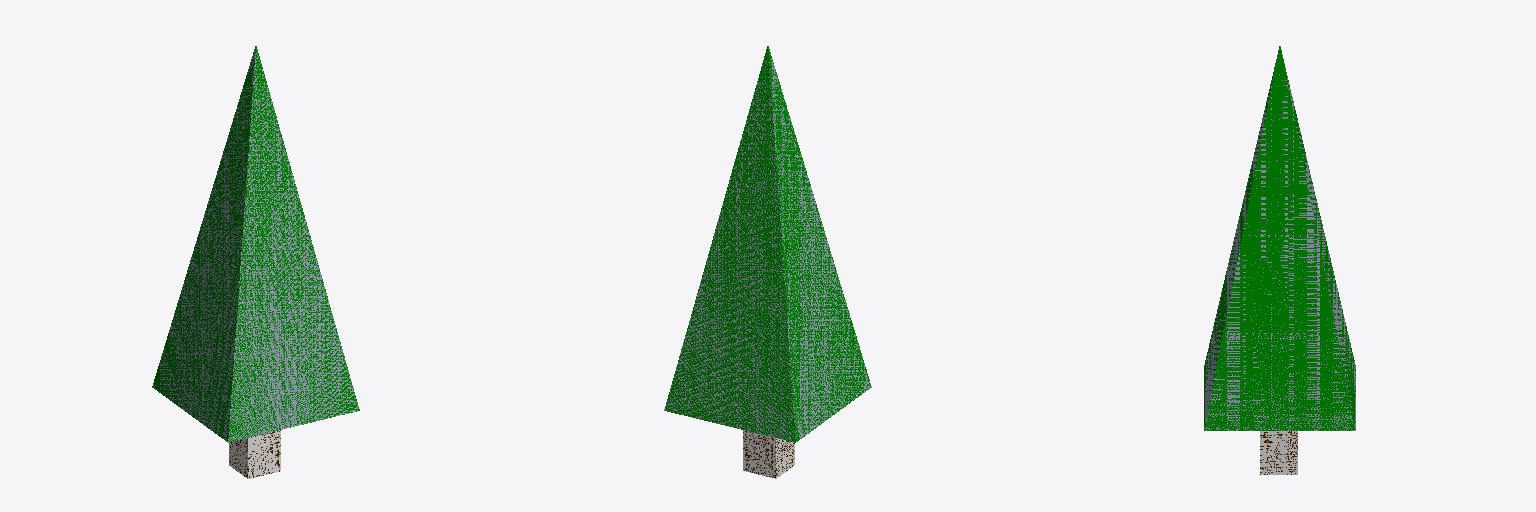
Rendered from tree.obj.
3 views of the same model, side by side, from view 1: azimuth 30°, elevation 25°; view 2: azimuth 150°, elevation 25°; view 3: azimuth 270°, elevation 25° (orthographic).
Visible parts, largest first — view 1: Mesh1 Model, Mesh2 Model; view 2: Mesh1 Model, Mesh2 Model; view 3: Mesh1 Model, Mesh2 Model.
Boxes of the visible parts, x1=… form: Mesh1 Model: x1=152, y1=46, x2=359, y2=442; Mesh2 Model: x1=229, y1=430, x2=280, y2=478; Mesh1 Model: x1=664, y1=46, x2=871, y2=442; Mesh2 Model: x1=743, y1=430, x2=794, y2=478; Mesh1 Model: x1=1204, y1=46, x2=1355, y2=430; Mesh2 Model: x1=1260, y1=431, x2=1297, y2=474.
Bounding box in the file's own units: 3 × 9.22 × 3.